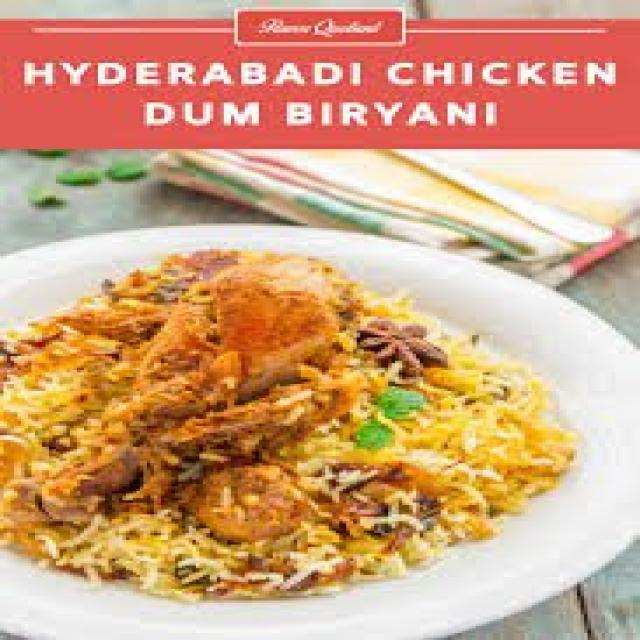chicken biryani: (17, 273, 529, 586)
